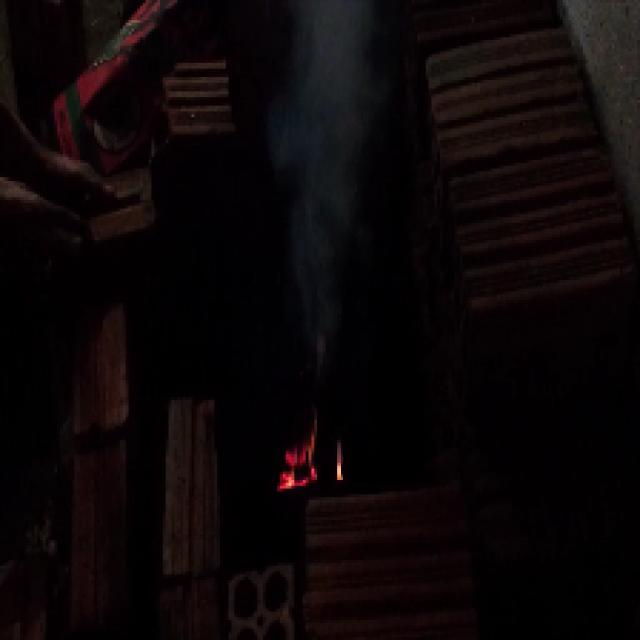Fire: (281, 430, 351, 488)
Smoke: (278, 0, 386, 363)
